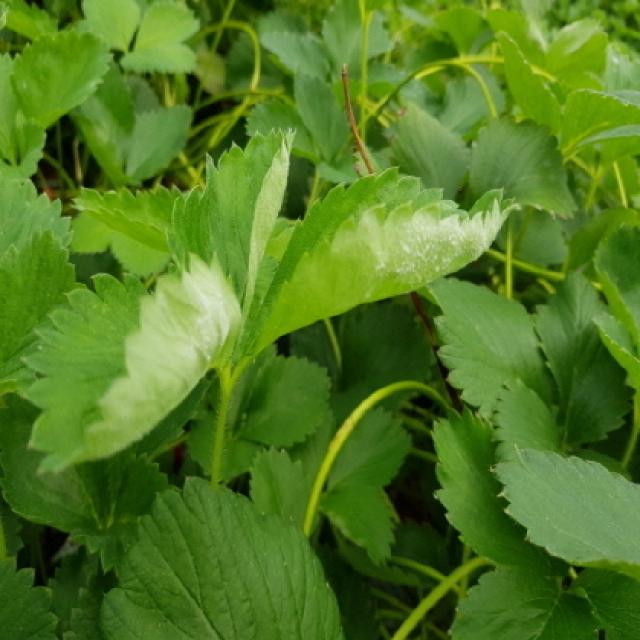Powdery Mildew Leaf: (245, 166, 524, 358), (14, 249, 244, 474)
